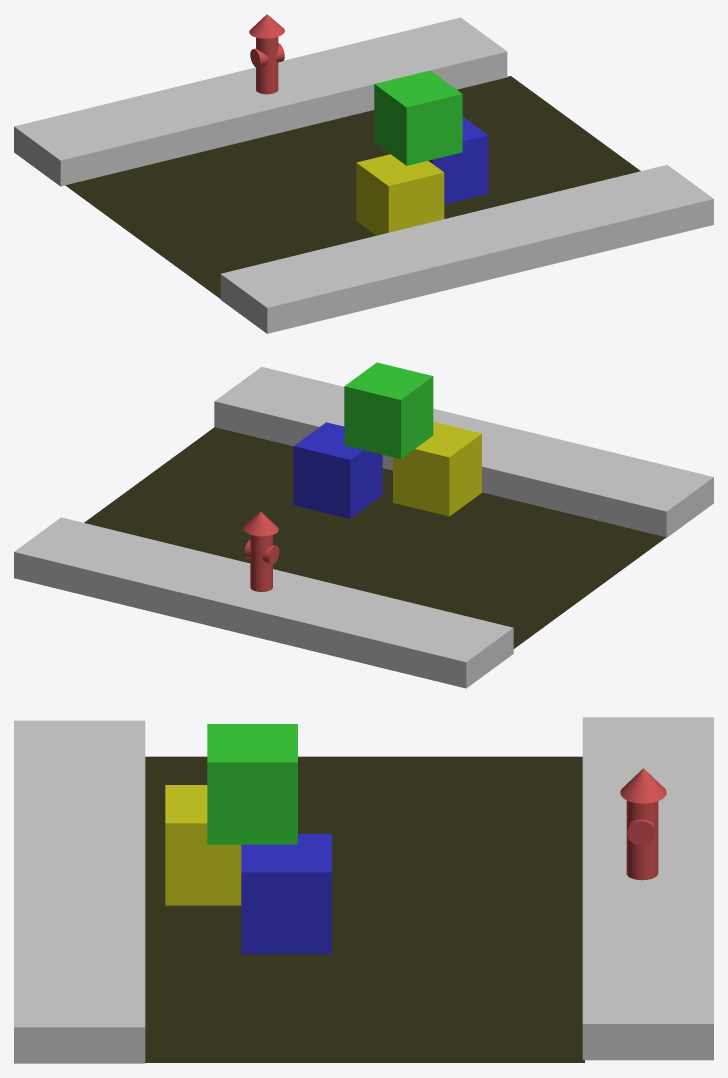
Rendered from sceneTest.obj.
3 renders of one model, top to bottom at view 1: azimuth 30°, elevation 25°; view 2: azimuth 150°, elevation 25°; view 3: azimuth 270°, elevation 25°, orthographic. The views are drawn at different scales.
Parts seen in each view (by area): view 1: Plane, Cube_Cube.001, Cube.001_Cube.002, Cube.004_Cube.005, Cube.002_Cube.003, Cube.003_Cube.004, Cylinder, Cone; view 2: Plane, Cube.001_Cube.002, Cube_Cube.001, Cube.004_Cube.005, Cube.003_Cube.004, Cube.002_Cube.003, Cylinder, Cone; view 3: Plane, Cube_Cube.001, Cube.001_Cube.002, Cube.004_Cube.005, Cube.003_Cube.004, Cube.002_Cube.003, Cylinder, Cone, Cylinder.001.
Part boxes in pixels (x1=…): Plane: x1=65, y1=76, x2=640, y2=298; Cube_Cube.001: x1=220, y1=165, x2=713, y2=333; Cube.001_Cube.002: x1=14, y1=17, x2=507, y2=186; Cube.004_Cube.005: x1=374, y1=70, x2=462, y2=165; Cube.002_Cube.003: x1=356, y1=154, x2=444, y2=235; Cube.003_Cube.004: x1=428, y1=117, x2=488, y2=204; Cylinder: x1=256, y1=37, x2=278, y2=94; Cone: x1=249, y1=14, x2=284, y2=38; Plane: x1=84, y1=427, x2=665, y2=648; Cube.001_Cube.002: x1=14, y1=517, x2=513, y2=688; Cube_Cube.001: x1=214, y1=367, x2=713, y2=537; Cube.004_Cube.005: x1=344, y1=362, x2=433, y2=458; Cube.003_Cube.004: x1=293, y1=422, x2=382, y2=518; Cube.002_Cube.003: x1=393, y1=421, x2=481, y2=516; Cylinder: x1=250, y1=534, x2=272, y2=591; Cone: x1=242, y1=511, x2=278, y2=536; Plane: x1=145, y1=756, x2=584, y2=1062; Cube_Cube.001: x1=14, y1=720, x2=145, y2=1063; Cube.001_Cube.002: x1=582, y1=717, x2=713, y2=1060; Cube.004_Cube.005: x1=207, y1=724, x2=297, y2=844; Cube.003_Cube.004: x1=241, y1=834, x2=331, y2=954; Cube.002_Cube.003: x1=165, y1=785, x2=241, y2=905; Cylinder: x1=626, y1=800, x2=658, y2=880; Cone: x1=620, y1=768, x2=666, y2=803; Cylinder.001: x1=627, y1=819, x2=655, y2=845.
Size of the model in its own units: 16.16 by 4.29 by 15.45.
